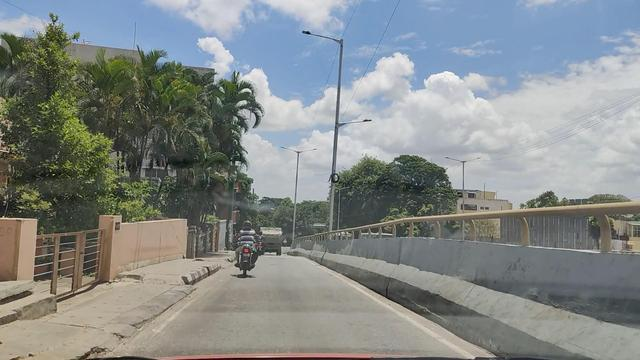LMV: (230, 217, 261, 281)
